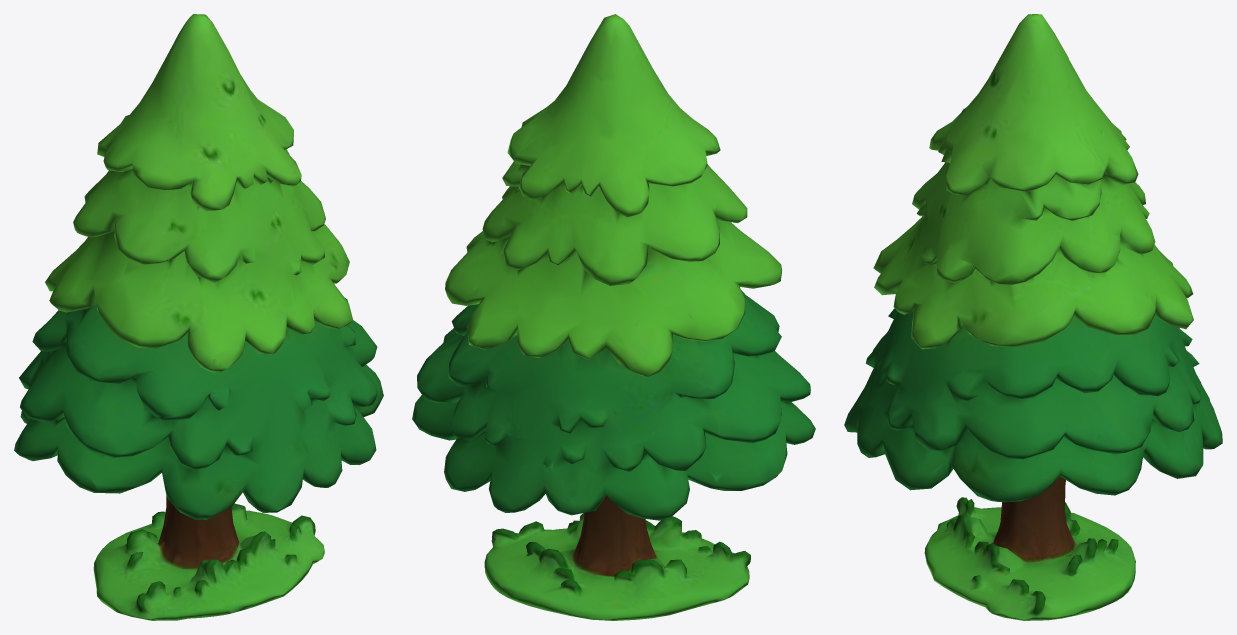
File: tree.glb
The picture shows the model from 3 angles, left to right: view 1: azimuth 30°, elevation 25°; view 2: azimuth 150°, elevation 25°; view 3: azimuth 270°, elevation 25°; orthographic projection.
Visible parts, largest first — view 1: tripo_node_d15887a0-04fd-4b27-a97d-47e33a7abf64; view 2: tripo_node_d15887a0-04fd-4b27-a97d-47e33a7abf64; view 3: tripo_node_d15887a0-04fd-4b27-a97d-47e33a7abf64.
Part boxes in pixels (bbox=[...]): tripo_node_d15887a0-04fd-4b27-a97d-47e33a7abf64: bbox=[14, 14, 383, 620]; tripo_node_d15887a0-04fd-4b27-a97d-47e33a7abf64: bbox=[412, 14, 815, 620]; tripo_node_d15887a0-04fd-4b27-a97d-47e33a7abf64: bbox=[844, 14, 1222, 620].
Bounding box in the file's own units: 0.6514 × 1 × 0.6252.
Materials: 1 (1 with a texture image).
